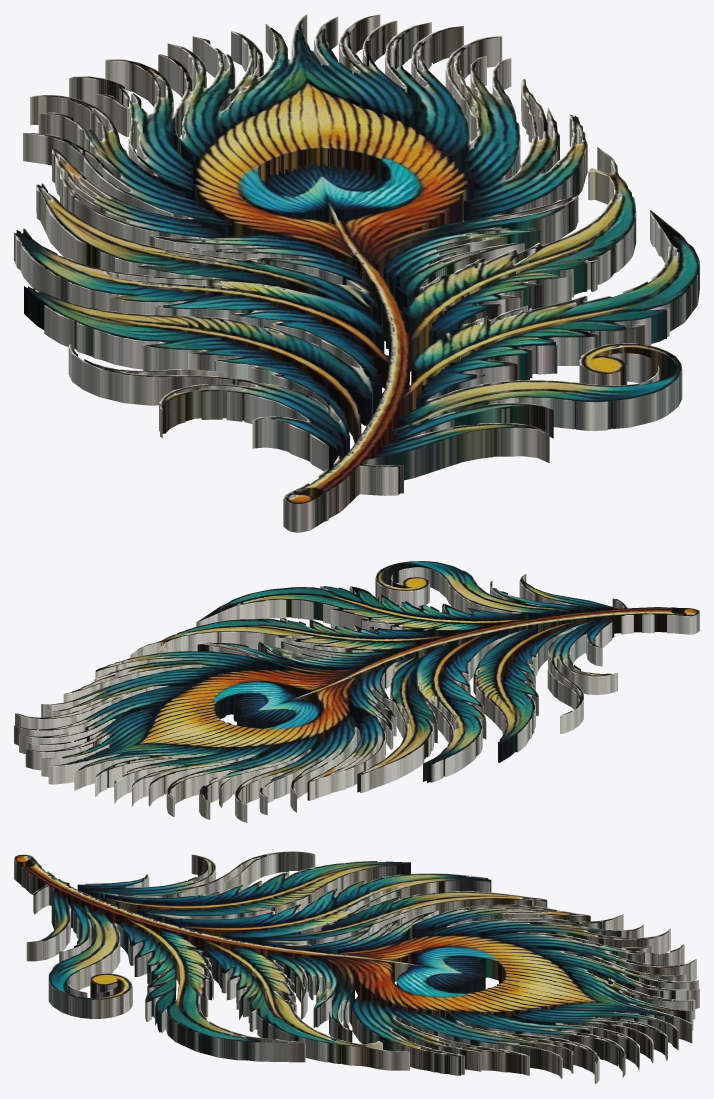
The model's file is Peacock feather.glb.
3 renders of one model, top to bottom at view 1: azimuth 30°, elevation 25°; view 2: azimuth 150°, elevation 25°; view 3: azimuth 270°, elevation 25°, orthographic. The views are drawn at different scales.
Bounding box in the file's own units: 0.1331 × 0.00552 × 0.1803.
Materials: 1 (1 with a texture image).
